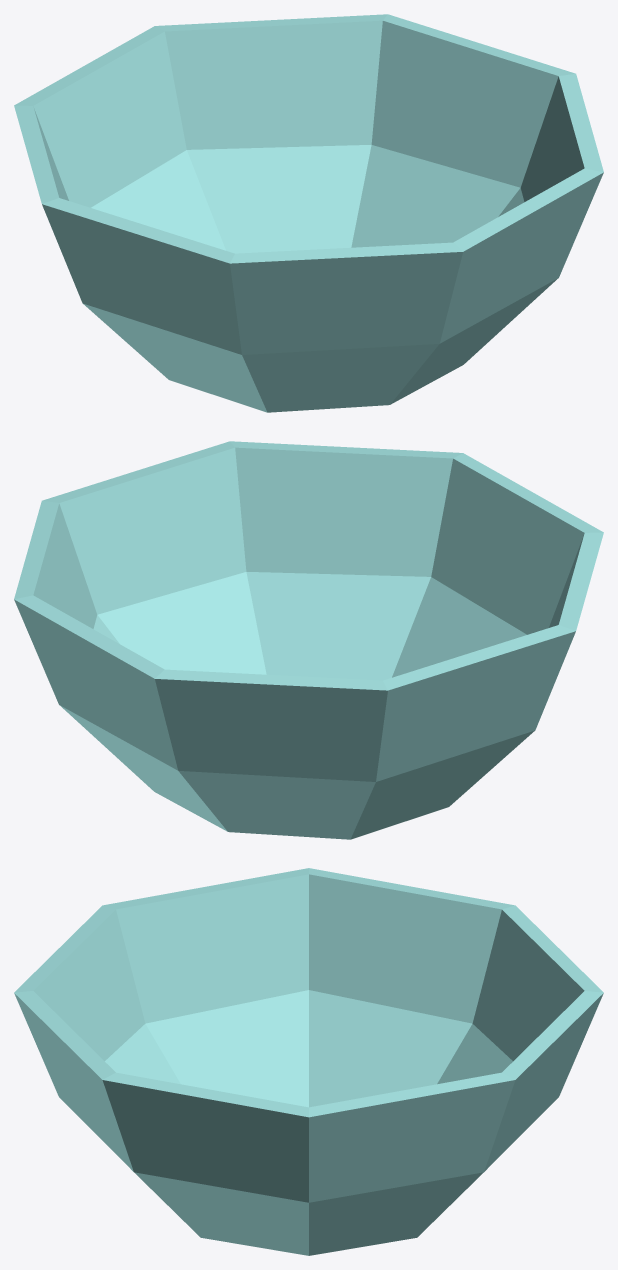
File: Bowl.fbx
3 renders of one model, top to bottom at view 1: azimuth 30°, elevation 25°; view 2: azimuth 150°, elevation 25°; view 3: azimuth 270°, elevation 25°, orthographic. The views are drawn at different scales.
Visible parts, largest first — view 1: Bowl; view 2: Bowl; view 3: Bowl.
Boxes of the visible parts, x1,y1,x2,y2 form: Bowl: (14, 14, 603, 412); Bowl: (14, 441, 603, 839); Bowl: (14, 868, 603, 1255).
Bounding box in the file's own units: 382 × 144 × 382.
